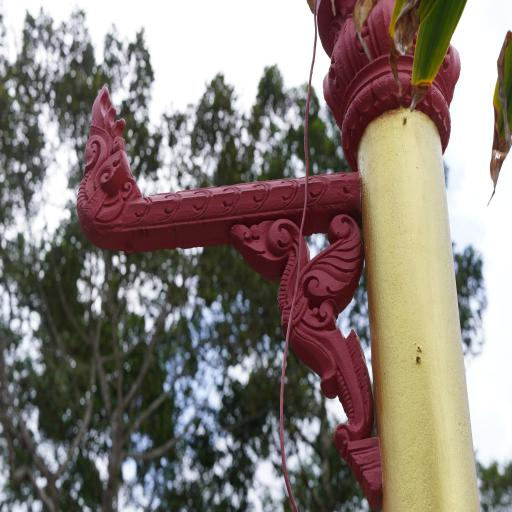ran: (220, 201, 394, 512), (65, 74, 166, 258)
